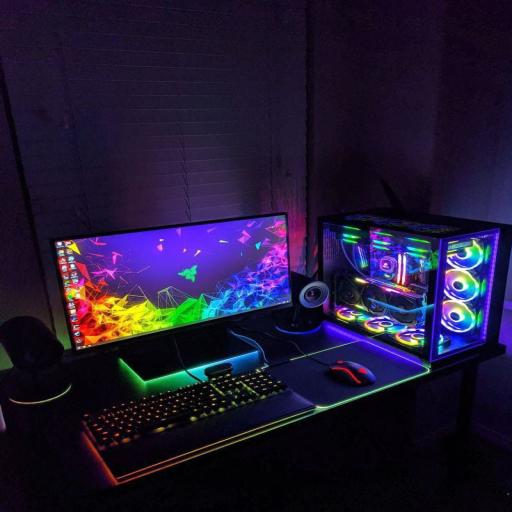computer case: (322, 206, 509, 362)
monitor: (52, 212, 291, 352)
